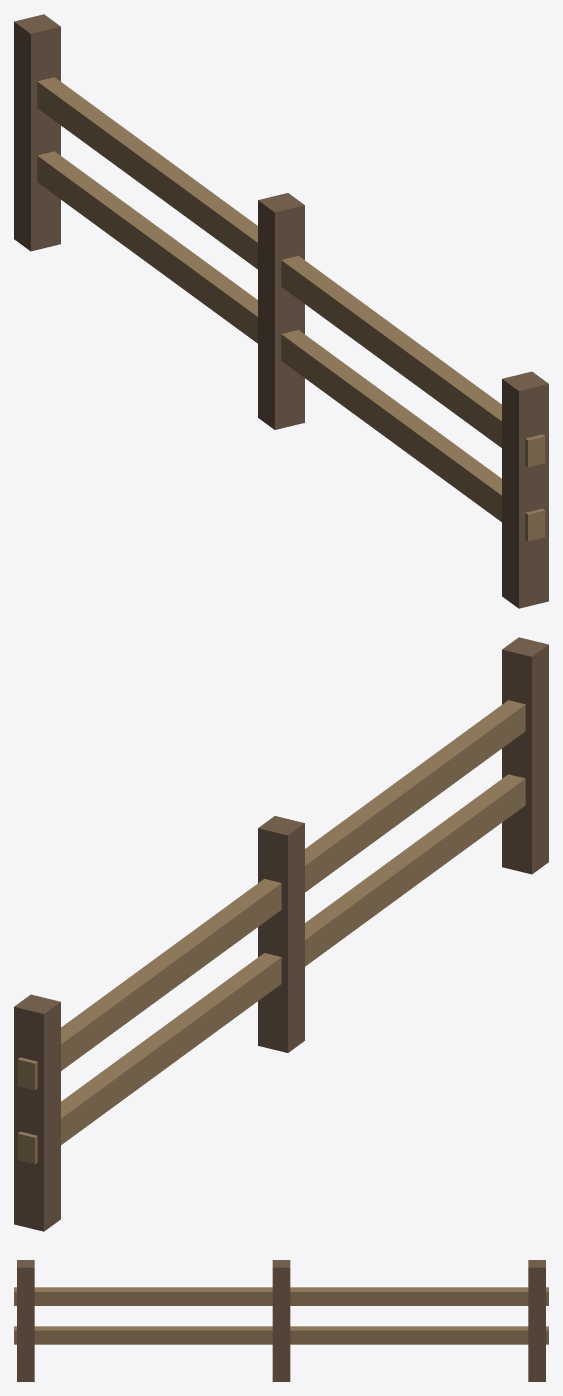
Rendered from roadside_split_rail_fence.glb.
3 views of the same model, one above another, from view 1: azimuth 30°, elevation 25°; view 2: azimuth 150°, elevation 25°; view 3: azimuth 270°, elevation 25° (orthographic). The views are drawn at different scales.
Visible parts, largest first — view 1: Long fence rail, Long fence rail.001, Cedar post, Cedar post.002, Cedar post.001; view 2: Long fence rail, Long fence rail.001, Cedar post.002, Cedar post, Cedar post.001; view 3: Long fence rail, Long fence rail.001, Cedar post.001, Cedar post, Cedar post.002.
Boxes of the visible parts, bbox=[...] form: Long fence rail: bbox=[37, 151, 545, 541]; Long fence rail.001: bbox=[37, 77, 545, 467]; Cedar post: bbox=[502, 371, 548, 608]; Cedar post.002: bbox=[14, 14, 60, 251]; Cedar post.001: bbox=[258, 193, 304, 429]; Long fence rail: bbox=[17, 774, 525, 1164]; Long fence rail.001: bbox=[17, 700, 525, 1090]; Cedar post.002: bbox=[14, 994, 60, 1231]; Cedar post: bbox=[502, 637, 548, 874]; Cedar post.001: bbox=[258, 816, 304, 1052]; Long fence rail: bbox=[14, 1326, 548, 1344]; Long fence rail.001: bbox=[14, 1287, 548, 1305]; Cedar post.001: bbox=[272, 1260, 290, 1381]; Cedar post: bbox=[17, 1260, 34, 1381]; Cedar post.002: bbox=[528, 1260, 545, 1381].
Bounding box in the file's own units: 0.178 × 1.23 × 5.23.
